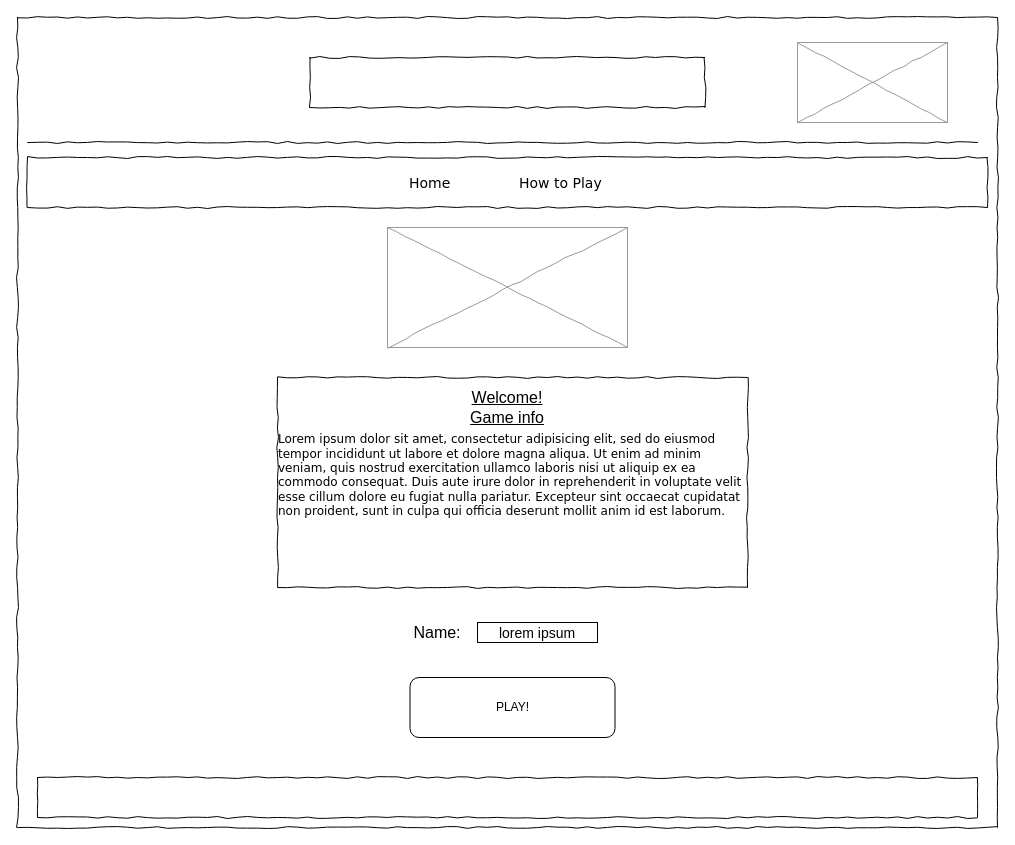
Image size: 1015x845. Some labels were removed from this diagram. Each missing label, with the centre of its shape:
Lorem ipsum dolor sit amet, consectetur adipisicing elit: the point at 507,797
Scottish Trivia Quiz: the point at 507,82
